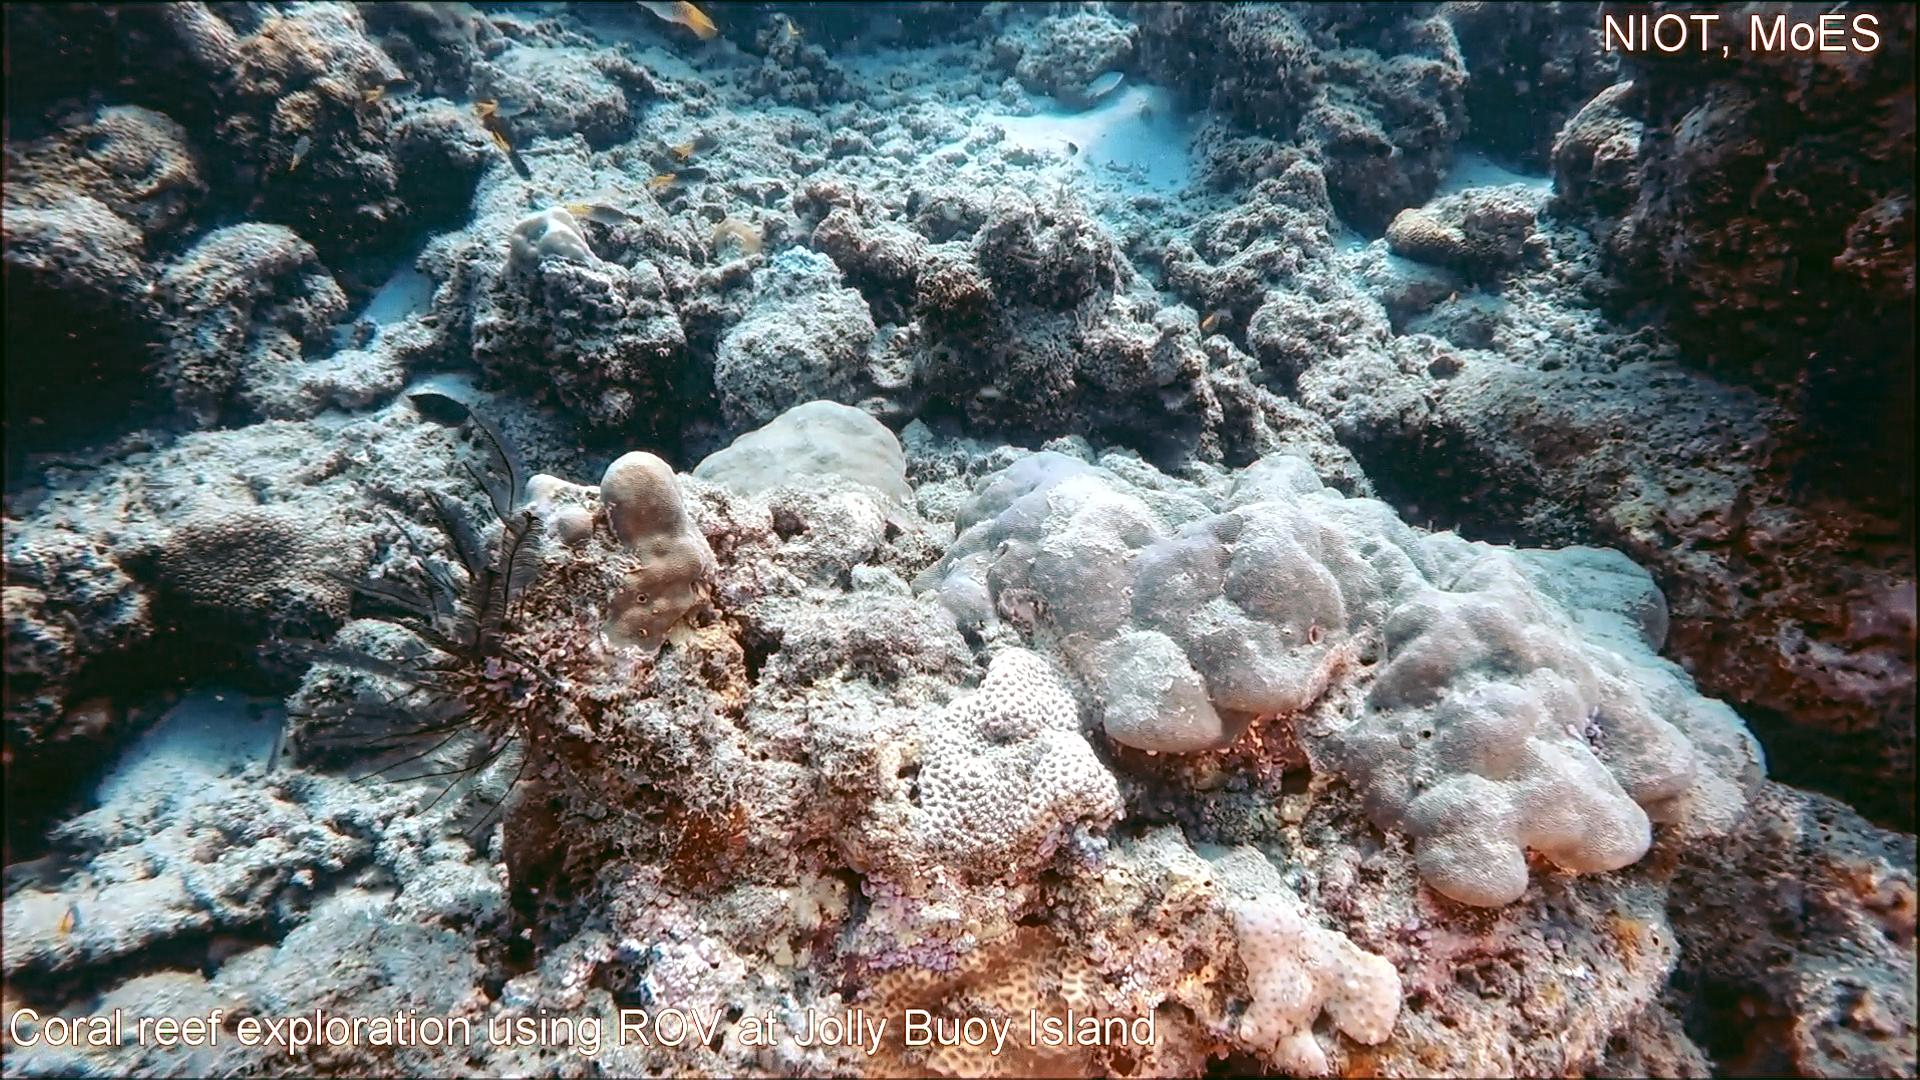Feather star-Crinoid star: (264, 385, 587, 851)
Goniastrea-Goniastrea pectinata: (909, 634, 1138, 884)
Porites-Porites pukoensis: (1216, 448, 1776, 922)
Turbinaria-Turbinaria stellulata: (150, 498, 373, 641)
